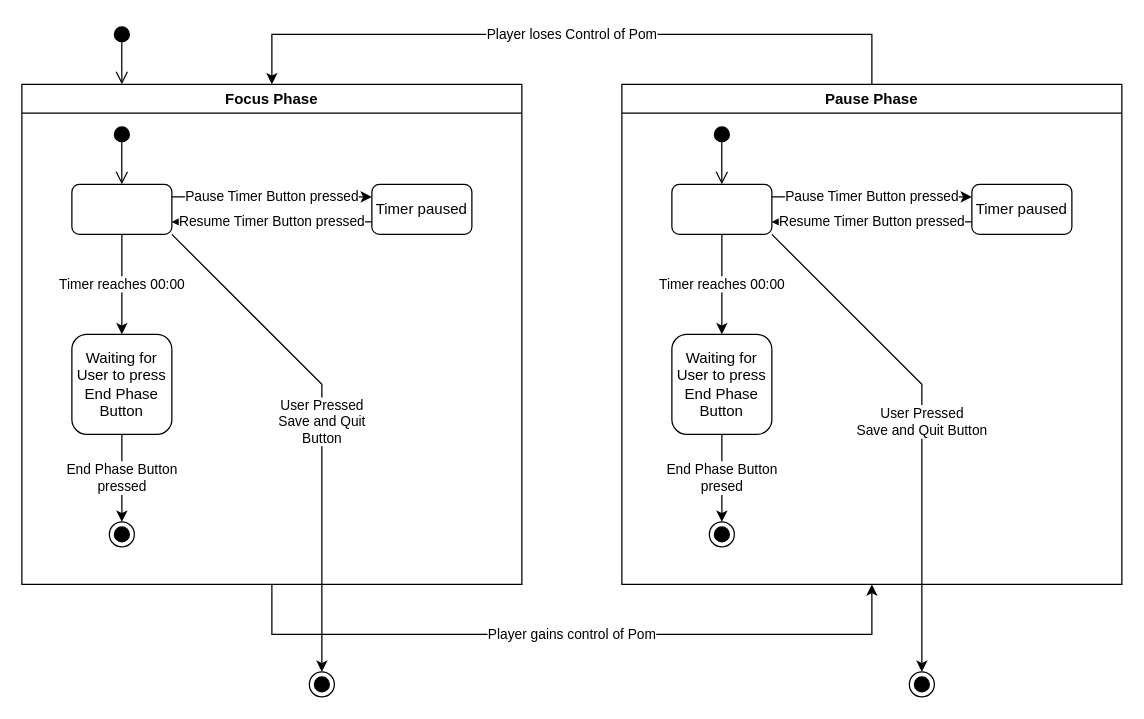
Some shapes in this 1144 by 719 pixel diagram are drawn without their labels. Here are the shapes that lost their labels. From the top down, the centre of each, then its label:
the point at 121,208: Start Focus Timer
the point at 721,208: Start Pause Timer
